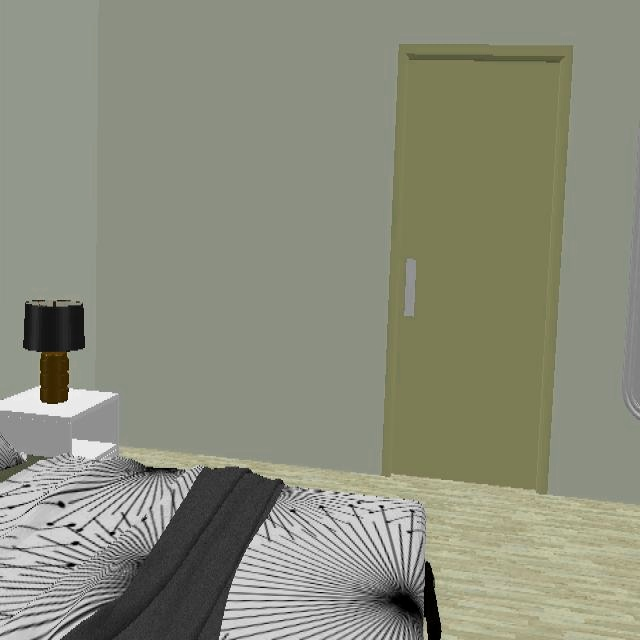bed: (0, 433, 442, 640)
lamp: (22, 299, 86, 405)
nighttable: (0, 388, 122, 457)
